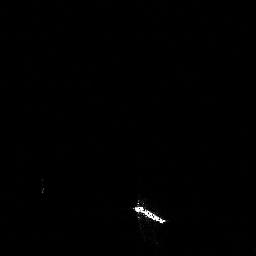ship: (130, 196, 169, 232)
